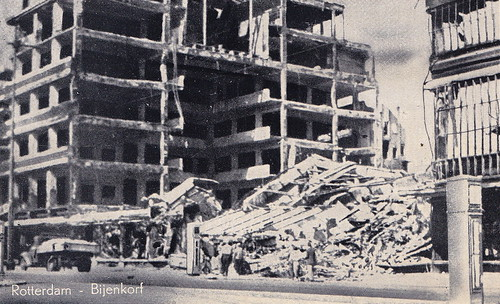building: (18, 3, 368, 225), (425, 1, 499, 197)
car: (22, 229, 97, 271)
trash: (194, 166, 427, 277)
